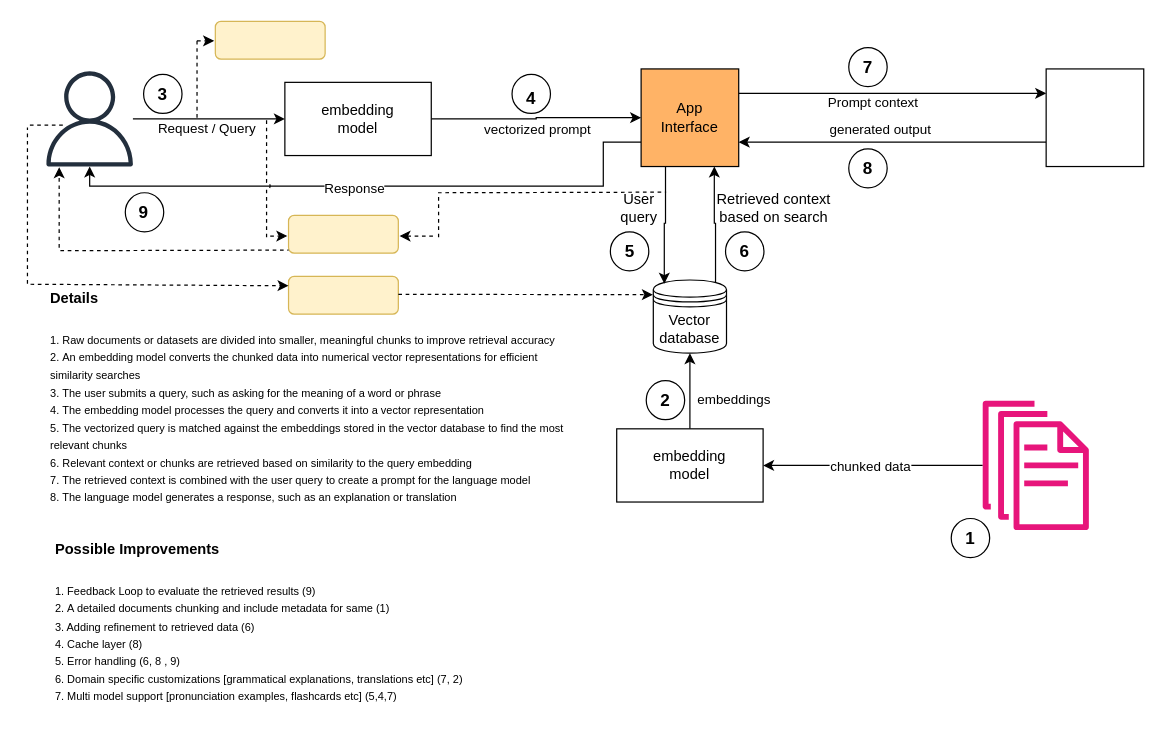
Image size: 1165x734. Some labels were removed from this diagram. Each missing label, with the box of its shape:
API Rate Limit: (214, 20, 325, 59)
Cache Layer: (287, 214, 398, 253)
Feedback Loop: (287, 275, 398, 314)
Language Model: (1045, 68, 1144, 167)
